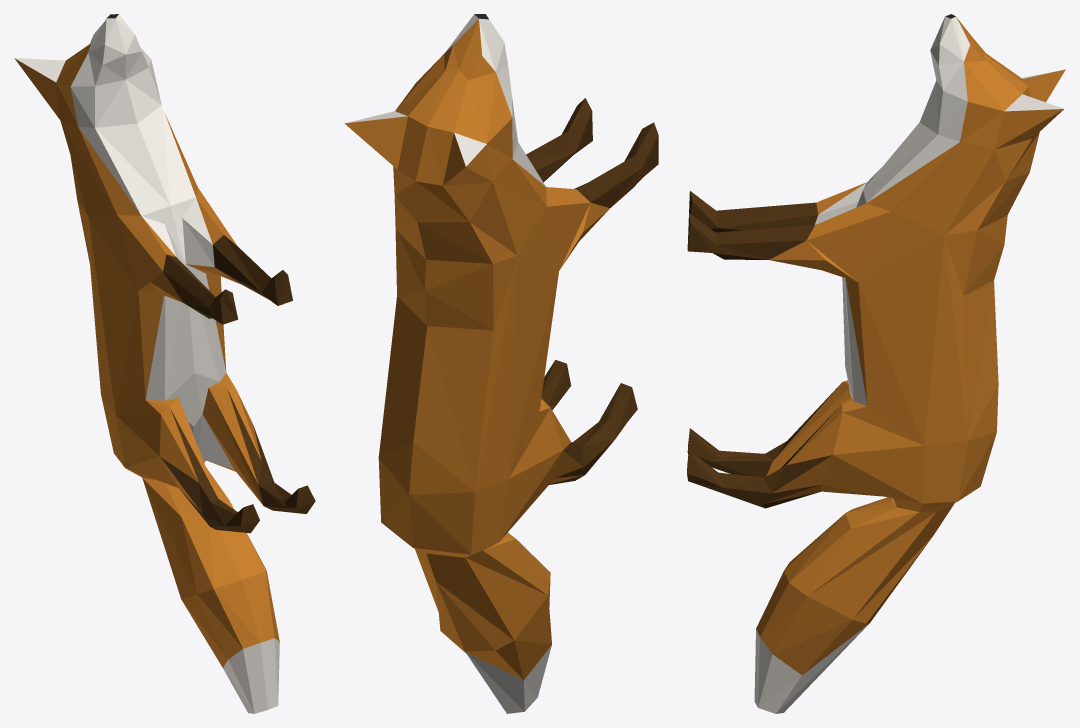
Rendered from Fox.dae.
3 renders of one model, left to right at view 1: azimuth 30°, elevation 25°; view 2: azimuth 150°, elevation 25°; view 3: azimuth 270°, elevation 25°, orthographic. The views are drawn at different scales.
Visible parts, largest first — view 1: Cube_001; view 2: Cube_001; view 3: Cube_001.
Boxes of the visible parts, x1=… form: Cube_001: x1=14, y1=14, x2=315, y2=713; Cube_001: x1=344, y1=14, x2=658, y2=713; Cube_001: x1=687, y1=14, x2=1065, y2=713.
Size of the model in its own units: 0.7068 by 1.77 by 3.44.
